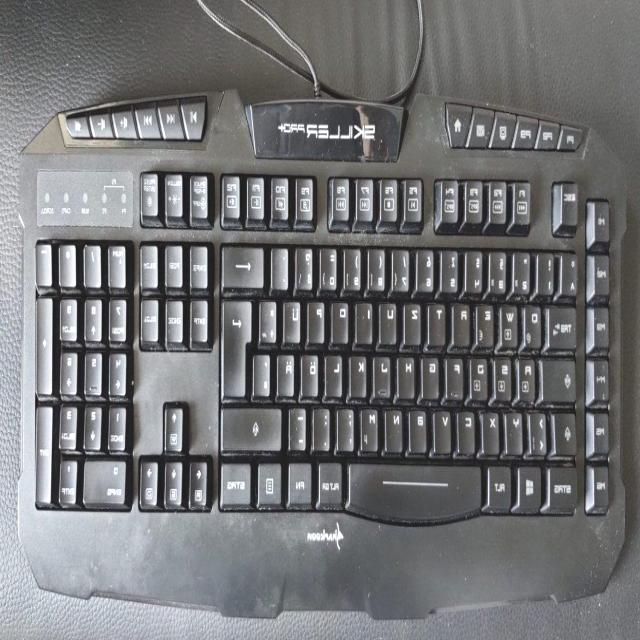0: (322, 240, 341, 288)
1: (539, 246, 558, 292)
2: (515, 245, 534, 291)
3: (491, 245, 510, 291)
4: (468, 244, 486, 290)
5: (443, 244, 462, 290)
6: (419, 243, 437, 289)
7: (394, 243, 412, 289)
8: (371, 241, 389, 289)
9: (346, 241, 364, 289)
a: (520, 351, 538, 397)
accent: (274, 242, 292, 286)
ae: (280, 348, 298, 394)
alt-left: (489, 459, 514, 507)
altgr-right: (320, 455, 345, 503)
b: (411, 403, 430, 449)
c: (460, 405, 478, 449)
caret: (564, 248, 580, 292)
comma: (339, 402, 358, 448)
d: (473, 351, 491, 397)
del: (224, 239, 267, 285)
e: (479, 297, 497, 343)
enter: (224, 292, 255, 394)
f: (448, 351, 466, 395)
g: (424, 351, 442, 393)
h: (400, 350, 418, 394)
hash: (257, 347, 273, 393)
i: (358, 296, 376, 340)
j: (376, 349, 394, 395)
k: (352, 349, 370, 393)
keyboard: (25, 134, 627, 540)
l: (327, 349, 345, 393)
less: (532, 405, 550, 451)
m: (364, 401, 382, 449)
minus: (291, 400, 310, 448)
n: (387, 403, 406, 449)
o: (333, 295, 351, 339)
oe: (304, 348, 322, 392)
p: (310, 295, 328, 339)
plus: (262, 294, 280, 338)
point: (316, 401, 334, 447)
q: (527, 299, 545, 345)
r: (455, 296, 473, 342)
s: (496, 350, 514, 396)
shift-left: (556, 406, 580, 452)
shift-lock: (543, 351, 579, 399)
shift-right: (224, 401, 284, 449)
space: (349, 455, 485, 519)
ss: (298, 240, 316, 286)
strg-left: (549, 459, 580, 509)
strg-right: (221, 456, 255, 502)
t: (430, 297, 448, 341)
tab: (550, 298, 580, 346)
u: (381, 295, 399, 341)
ue: (286, 295, 304, 339)
v: (436, 404, 454, 450)
w: (503, 298, 521, 344)
x: (484, 406, 502, 450)
y: (507, 405, 525, 451)
z: (406, 296, 424, 340)
